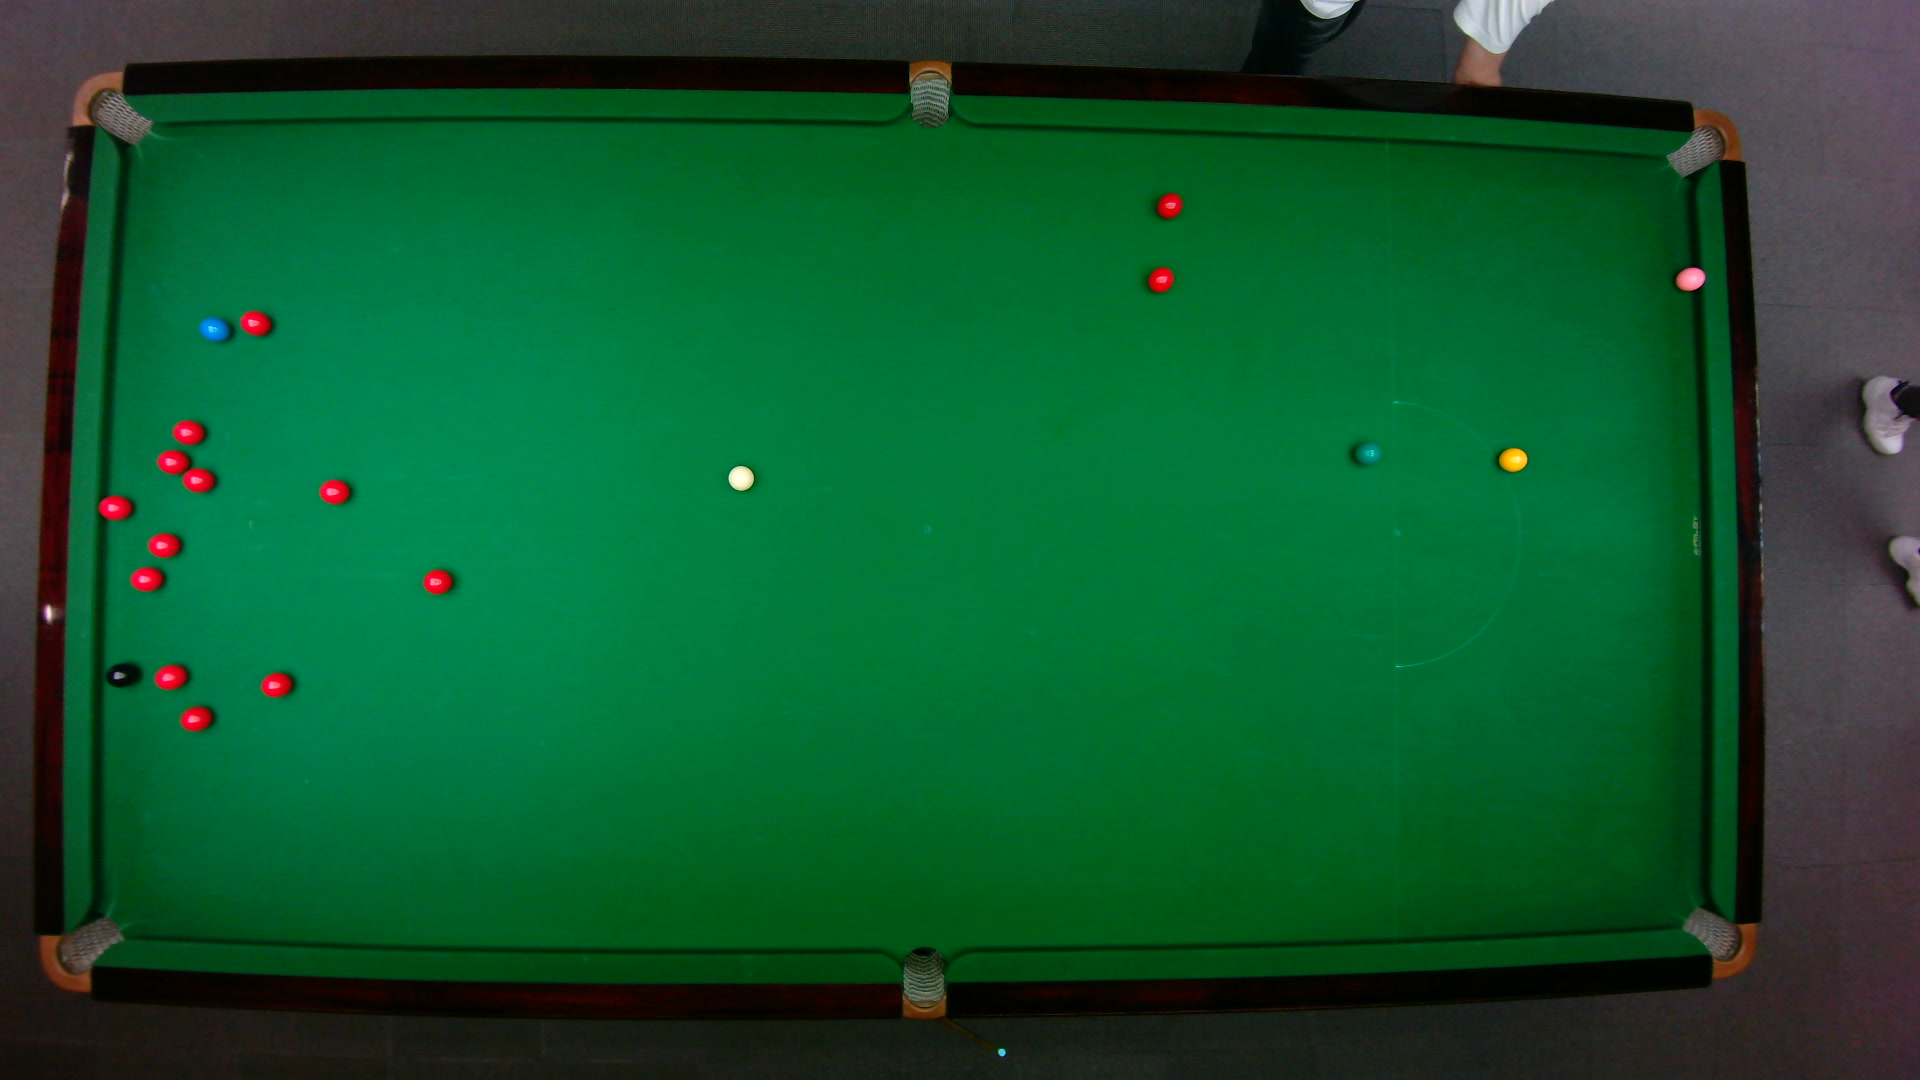bag: (37, 914, 125, 993), (69, 69, 152, 145), (1677, 905, 1756, 978), (1662, 107, 1741, 178), (901, 944, 944, 1021), (909, 58, 949, 128)
black: (103, 661, 135, 688)
blue: (196, 314, 229, 342)
green: (1352, 440, 1383, 465)
pink: (1673, 264, 1706, 291)
red: (258, 669, 294, 698), (178, 703, 214, 732), (152, 661, 189, 688), (95, 493, 133, 520), (237, 309, 273, 336), (145, 530, 181, 558), (128, 564, 164, 592), (179, 465, 215, 493), (419, 567, 454, 595), (154, 447, 190, 473), (170, 418, 206, 444), (316, 477, 351, 504), (1146, 265, 1175, 293), (1154, 191, 1183, 219)
white: (725, 463, 756, 491)
yellow: (1497, 444, 1528, 472)
zone: (1390, 398, 1520, 667)
